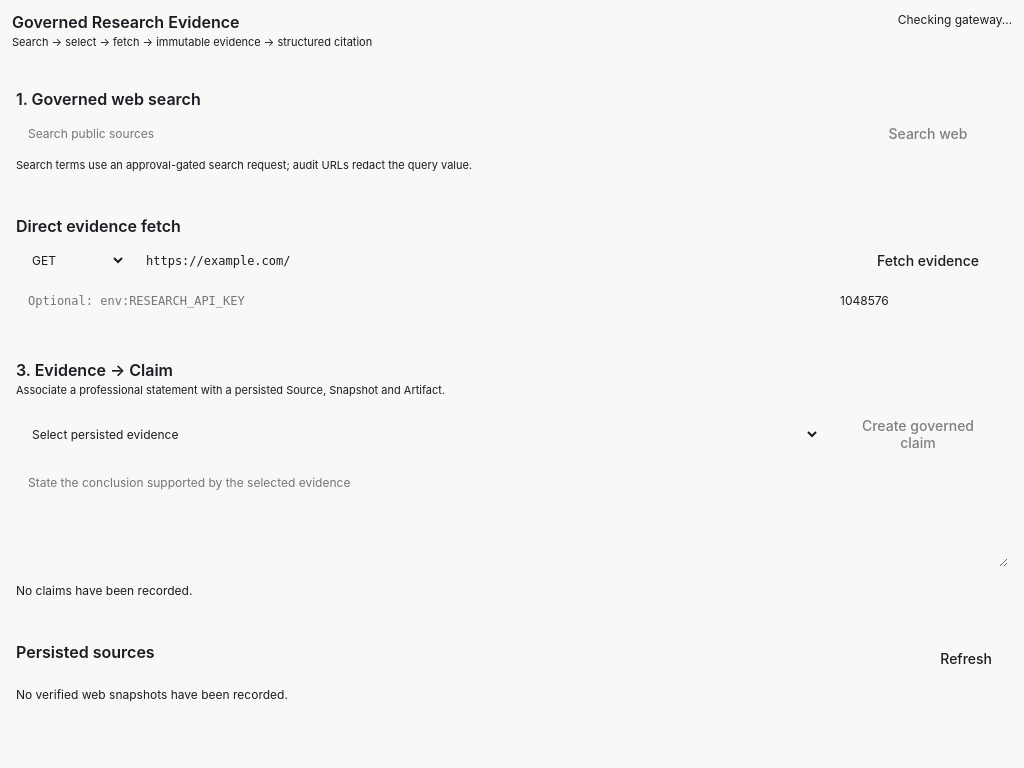
research evidence workbench › gates search, retries the identical query, then offers manual result capture
In the field named "Research search query": (428, 134) [16, 117, 840, 150], type "Nous evidence"
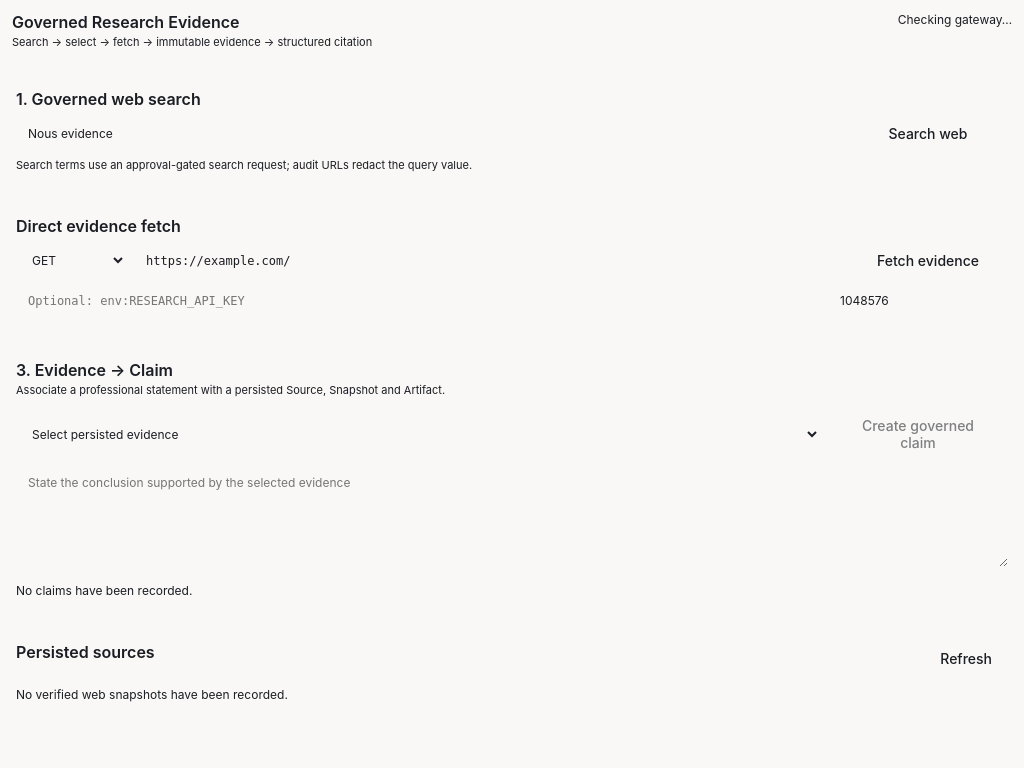
Click the button "Search web": (928, 134) [848, 117, 1008, 150]
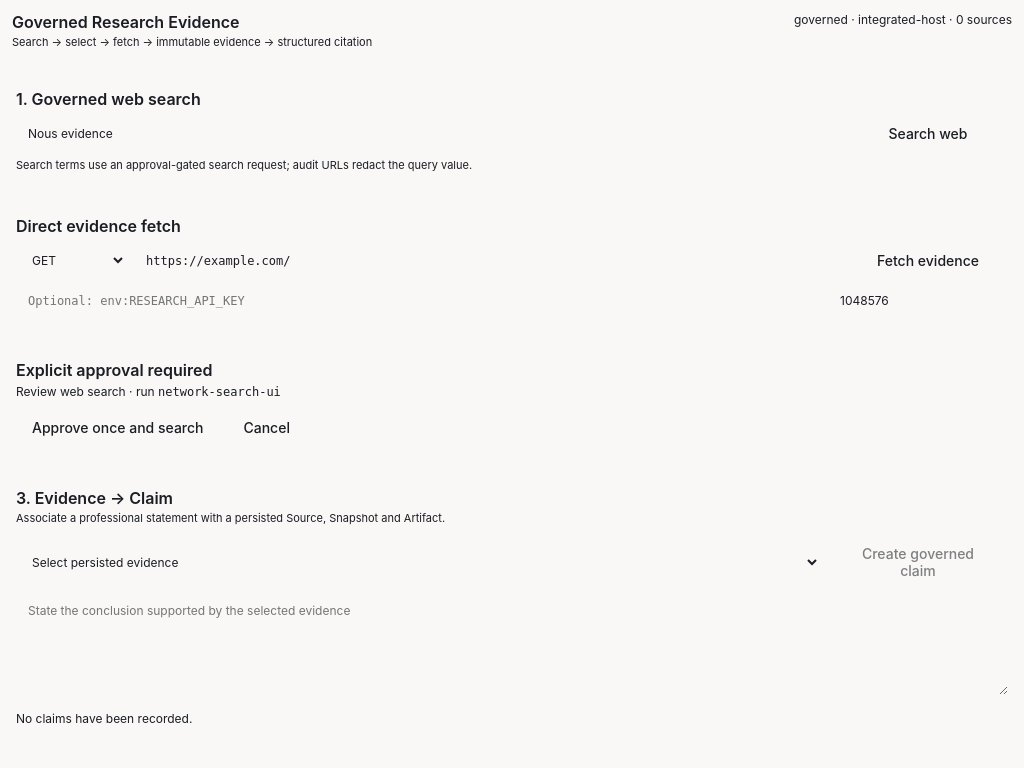
Expected: the text "Explicit approval required" is shown, [16, 360, 212, 380]
Click the button "Approve once and search": (118, 428) [16, 411, 220, 444]
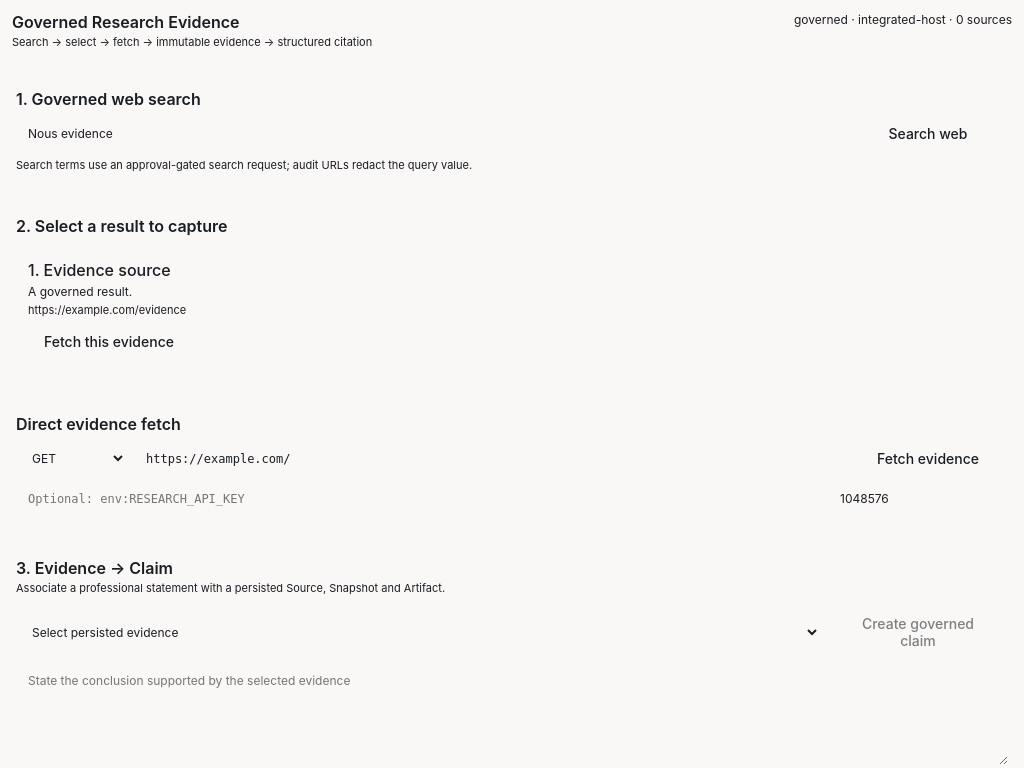
Expected: the text "1. Evidence source" is shown, [28, 260, 171, 280]
Expected: the button "Fetch this evidence" is shown, [28, 325, 190, 358]
